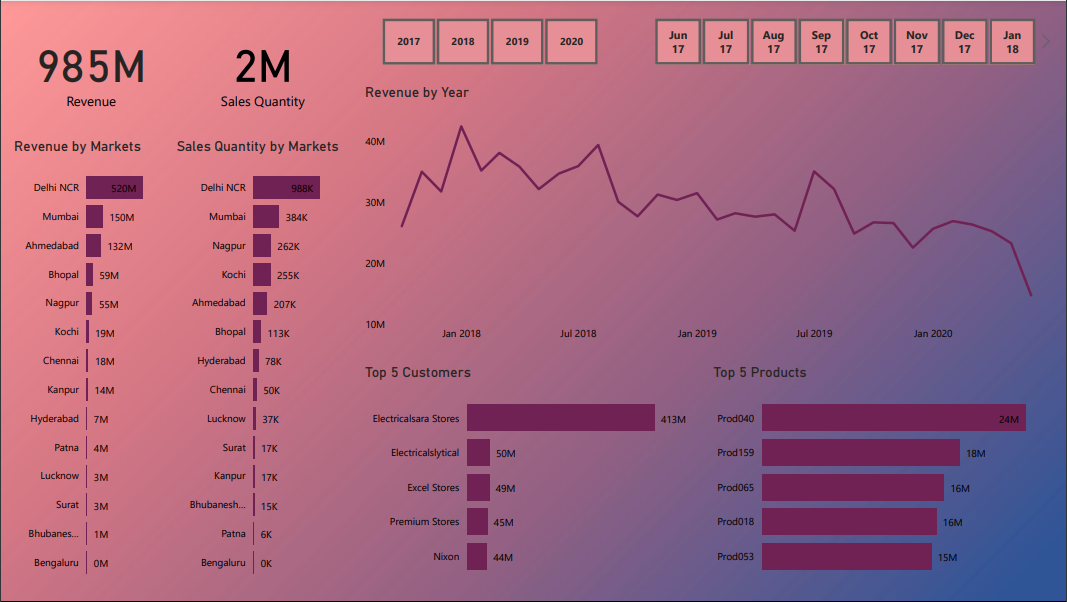

What the dashboard file says about the page in this screenshot:
{"tool":"powerbi","page":{"name":"Page 1","canvas":[1280,720],"ordinal":0},"visuals":[{"type":"card","fields":{"Values":["Measures (2).Revenue"]},"box":[11.6,9.3,195.5,145.5],"z":0},{"type":"clusteredBarChart","title":"Revenue by Markets","fields":{"Category":["sales markets.markets_name"],"Y":["Measures (2).Revenue"]},"box":[11.6,164.1,195.5,542.3],"z":1000},{"type":"card","fields":{"Values":["Measures (2).Sales Qty"]},"box":[216.4,9.3,199,145.5],"z":2000},{"type":"clusteredBarChart","title":"Sales Quantity by Markets","fields":{"Category":["sales markets.markets_name"],"Y":["Measures (2).Sales Qty"]},"box":[207.1,164.1,208.3,542.3],"z":3000},{"type":"slicer","fields":{"Values":["sales date.year"]},"box":[432.9,14,308.4,68.7],"z":4000},{"type":"slicer","fields":{"Values":["sales date.cy_date"]},"box":[759.9,14,506.2,68.7],"z":5000},{"type":"clusteredBarChart","title":"Top 5 Customers","fields":{"Y":["Measures (2).Revenue"],"Category":["sales customers.custmer_name"]},"box":[432.9,435.2,402.6,268.8],"z":6000},{"type":"clusteredBarChart","title":"Top 5 Products","fields":{"Y":["Measures (2).Revenue"],"Category":["sales products.product_code"]},"box":[850.6,435.2,415.4,268.8],"z":7000},{"type":"lineChart","title":"Revenue by Year","fields":{"Y":["Measures (2).Revenue"],"Category":["sales date.cy_date"]},"box":[432.9,98.9,833.2,317.7],"z":8000}]}

Visuals, with their boxes in screenshot pixels (x1, y1, x2, y2), scaled from the page's 1280x720 canvas onto the 1067x602 screenshot:
card - Measures (2).Revenue: <bbox>10, 8, 173, 129</bbox>
"Revenue by Markets" clusteredBarChart: <bbox>10, 137, 173, 591</bbox>
card - Measures (2).Sales Qty: <bbox>180, 8, 346, 129</bbox>
"Sales Quantity by Markets" clusteredBarChart: <bbox>173, 137, 346, 591</bbox>
slicer - sales date.year: <bbox>361, 12, 618, 69</bbox>
slicer - sales date.cy_date: <bbox>633, 12, 1055, 69</bbox>
"Top 5 Customers" clusteredBarChart: <bbox>361, 364, 696, 589</bbox>
"Top 5 Products" clusteredBarChart: <bbox>709, 364, 1055, 589</bbox>
"Revenue by Year" lineChart: <bbox>361, 83, 1055, 348</bbox>
